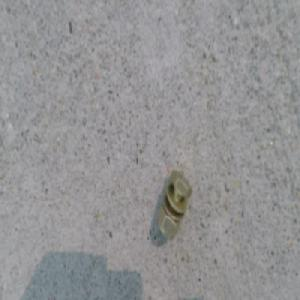BoltNutSet: (158, 168, 195, 240)
